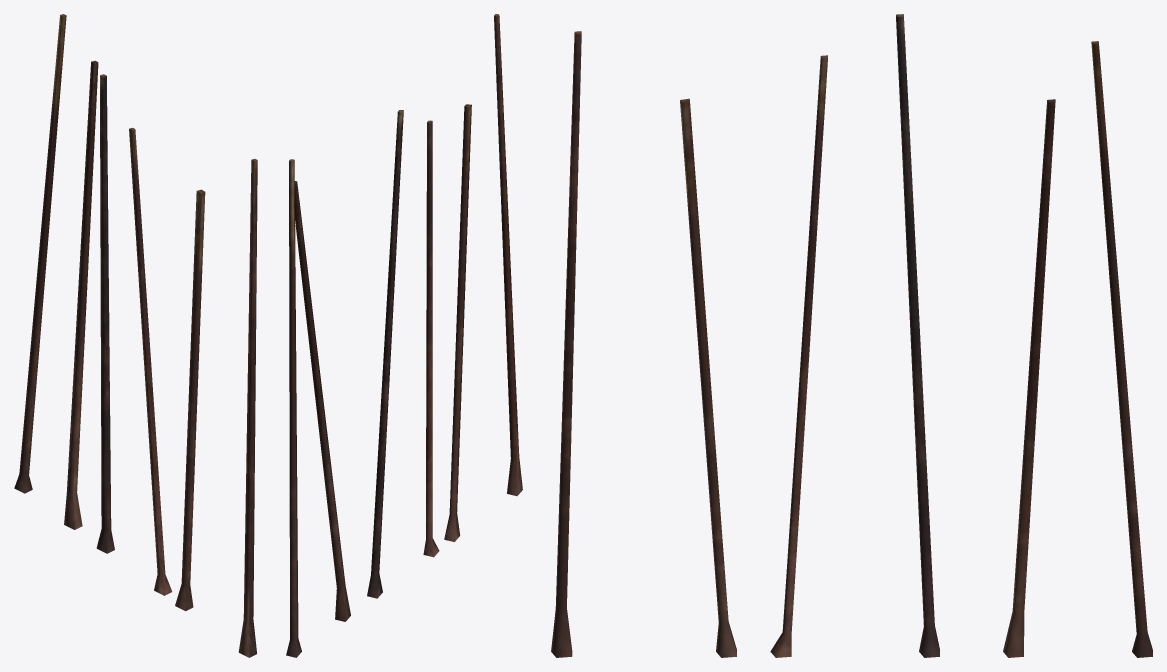
File: RustedBars.FBX
3 renders of one model, left to right at view 1: azimuth 30°, elevation 25°; view 2: azimuth 150°, elevation 25°; view 3: azimuth 270°, elevation 25°, orthographic. The views are drawn at different scales.
Parts seen in each view (by area): view 1: RustedBars; view 2: RustedBars; view 3: RustedBars.
Boxes of the visible parts, left/top/right/bottom form: RustedBars: left=14, top=14, right=257, bottom=657; RustedBars: left=286, top=14, right=522, bottom=657; RustedBars: left=551, top=14, right=1152, bottom=657.
Size of the model in its own units: 11 by 92.96 by 80.58.
